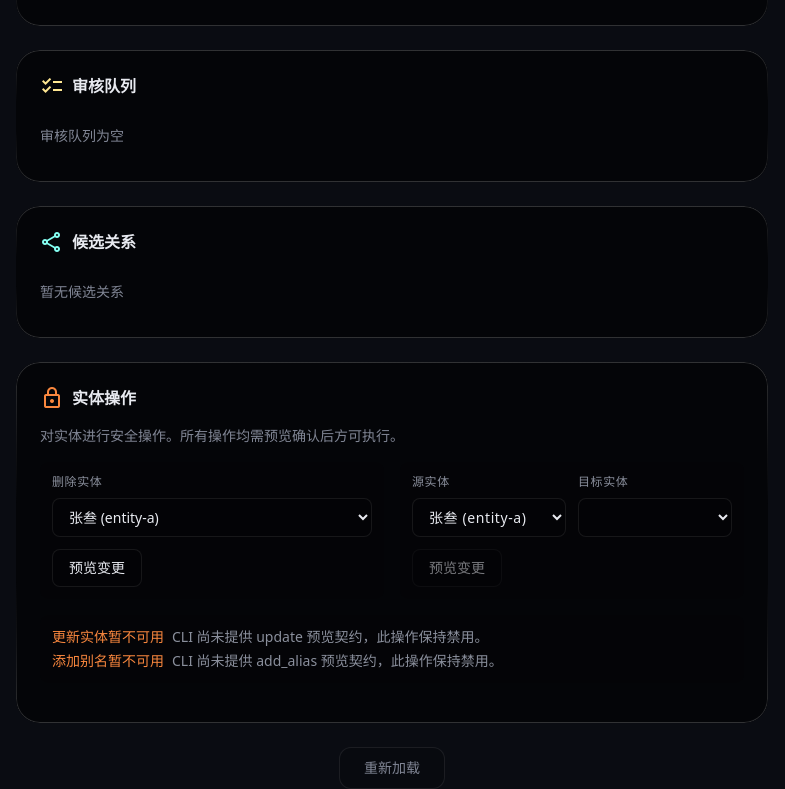
Test: EntityGraph › previews delete before enabling confirmation
The width and height of the screenshot is (785, 789).
(page scrolled)
Click the button with test id "entity-delete-preview" at x=97, y=568, box [52,548,142,586]
(page scrolled)
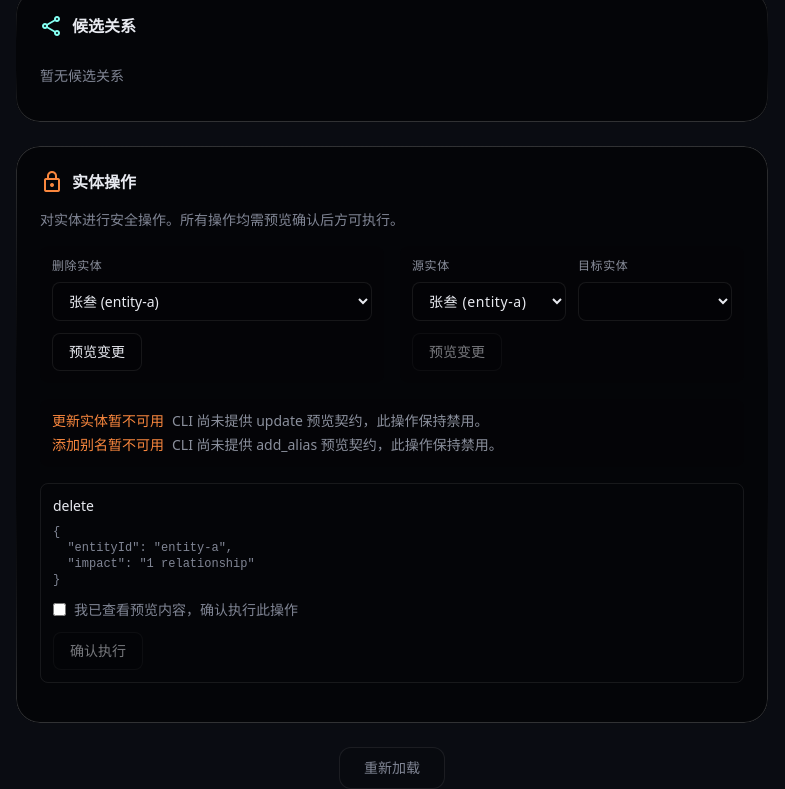
Check: the element with test id "entity-mutation-preview" shows "delete", box [53,496,94,514]
Check: the button with test id "entity-mutation-confirm" is disabled, box [53,632,143,670]
